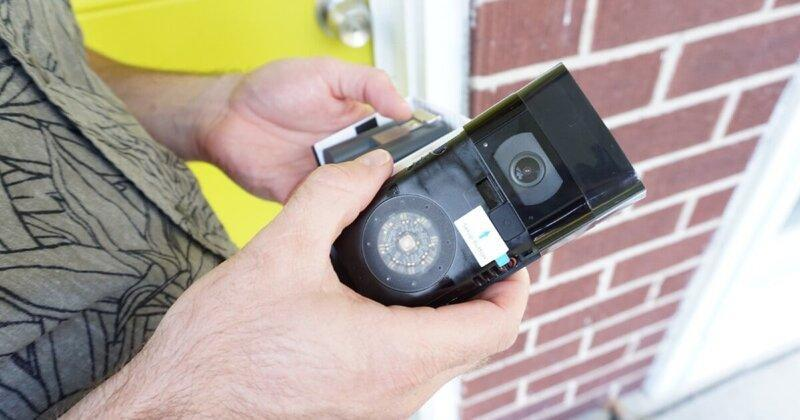doorbell: (307, 195, 608, 361)
